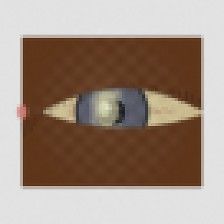corneal_ulcer: (78, 85, 137, 133)
